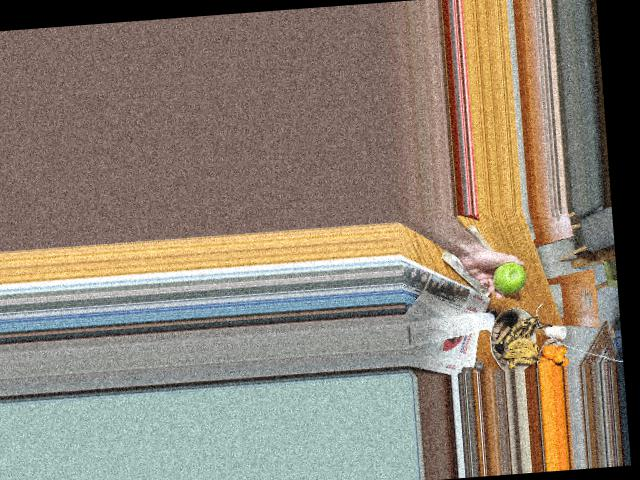apple: (491, 258, 528, 294)
